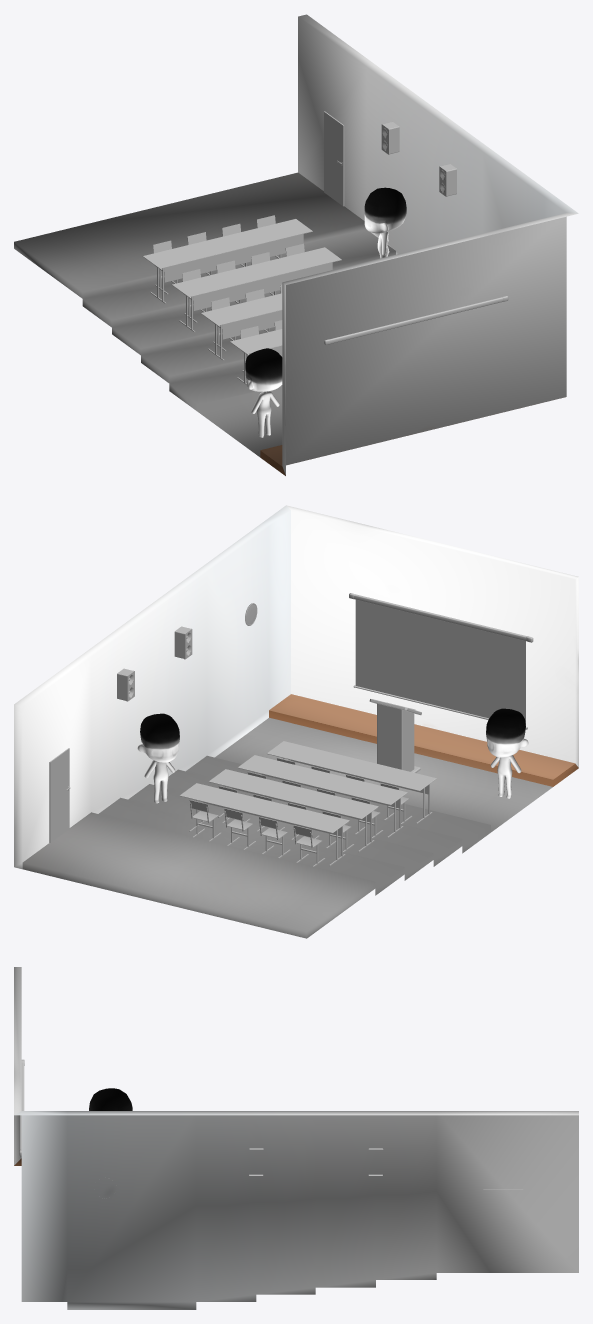
Rendered from class_npc.fbx.
3 renders of one model, top to bottom at view 1: azimuth 30°, elevation 25°; view 2: azimuth 150°, elevation 25°; view 3: azimuth 270°, elevation 25°, orthographic. The views are drawn at different scales.
Parts seen in each view (by area): view 1: Box001, entertainment_048, Object008, Object009; view 2: Box001, entertainment_048, Object008, Object009; view 3: Box001, Object008, entertainment_048.
Boxes of the visible parts, x1=… form: Box001: x1=14, y1=14, x2=578, y2=475; entertainment_048: x1=142, y1=111, x2=508, y2=384; Object008: x1=245, y1=348, x2=282, y2=437; Object009: x1=364, y1=187, x2=406, y2=258; Box001: x1=14, y1=505, x2=578, y2=938; entertainment_048: x1=49, y1=593, x2=533, y2=866; Object008: x1=486, y1=708, x2=528, y2=798; Object009: x1=137, y1=713, x2=179, y2=803; Box001: x1=14, y1=967, x2=578, y2=1309; Object008: x1=89, y1=1088, x2=132, y2=1110; entertainment_048: x1=19, y1=1059, x2=522, y2=1189.
Size of the model in its own units: 1575 by 986 by 2535.
